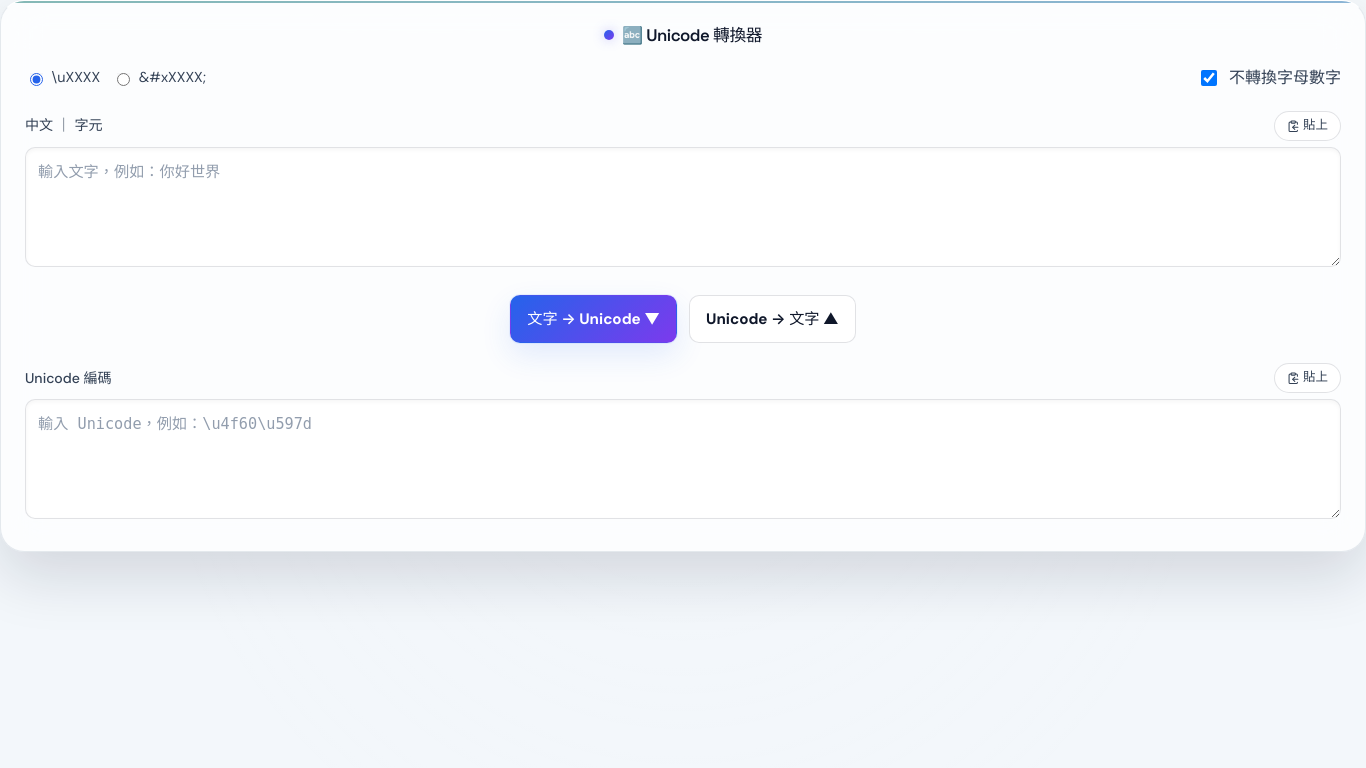
Test: UnicodeConverter.vue › 文字 → Unicode › 應能轉為 HTML Entities
Click the radio button with id "unicode-mode-html". click: (124, 79)
box: [117,73,130,86]
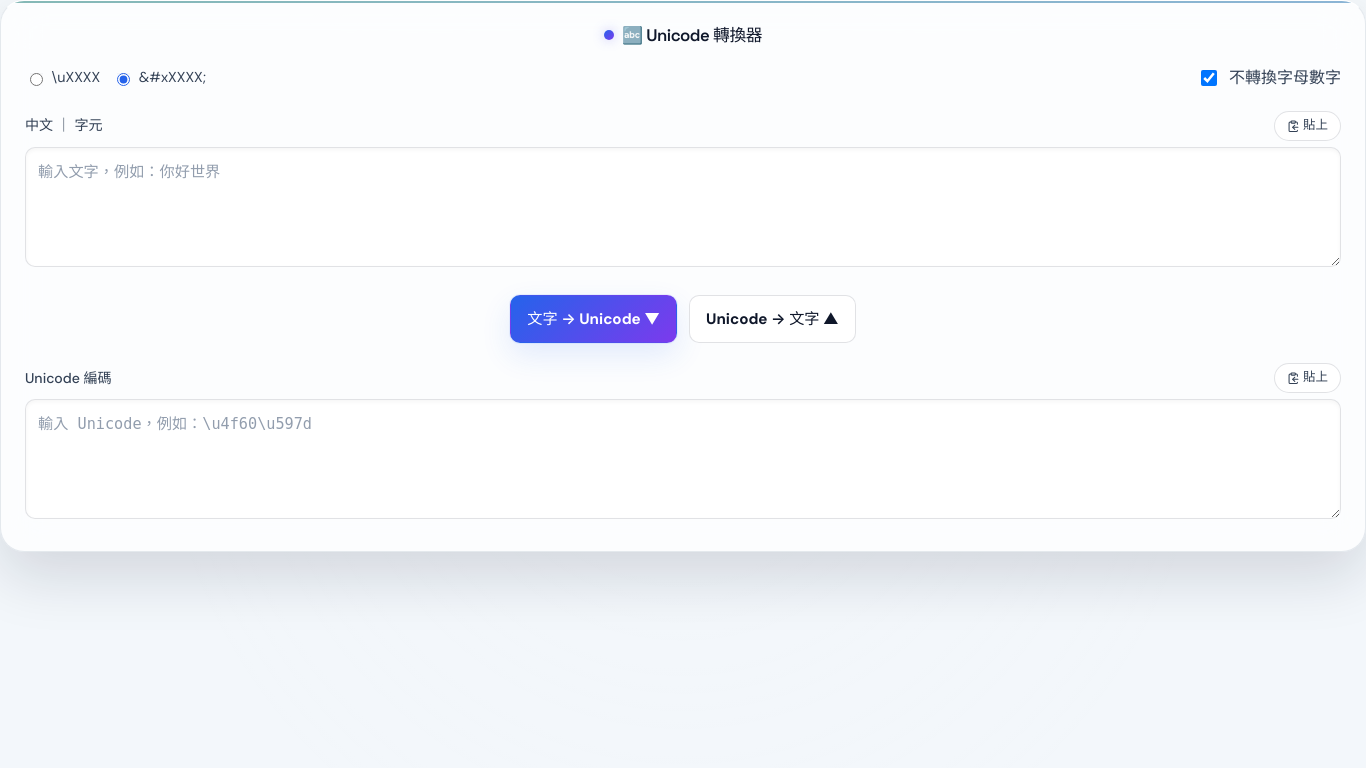
Type "你好" into the text box with id "unicode-text-input". click: (683, 207)
box: [25,147,1341,267]
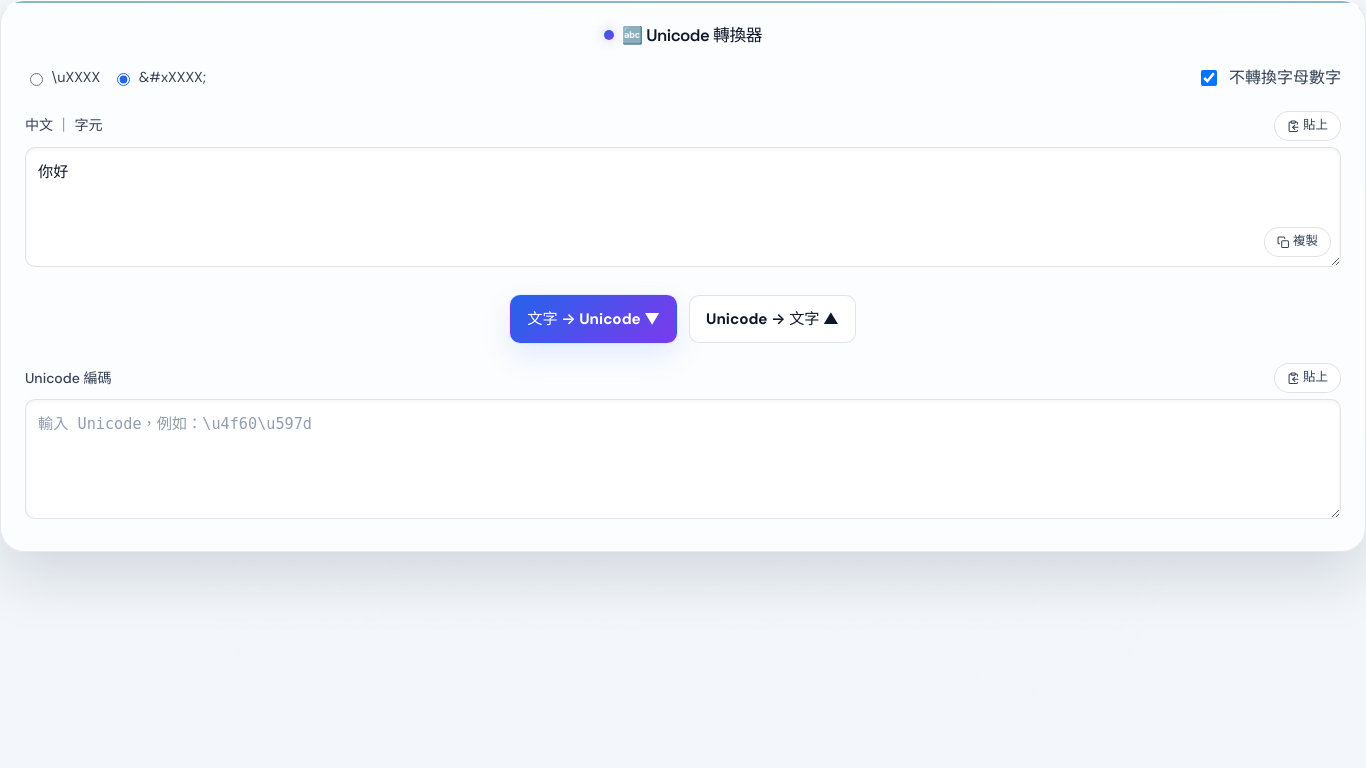
Click the button "文字 → Unicode ▼". click: (594, 319)
box: [510,295,677,343]
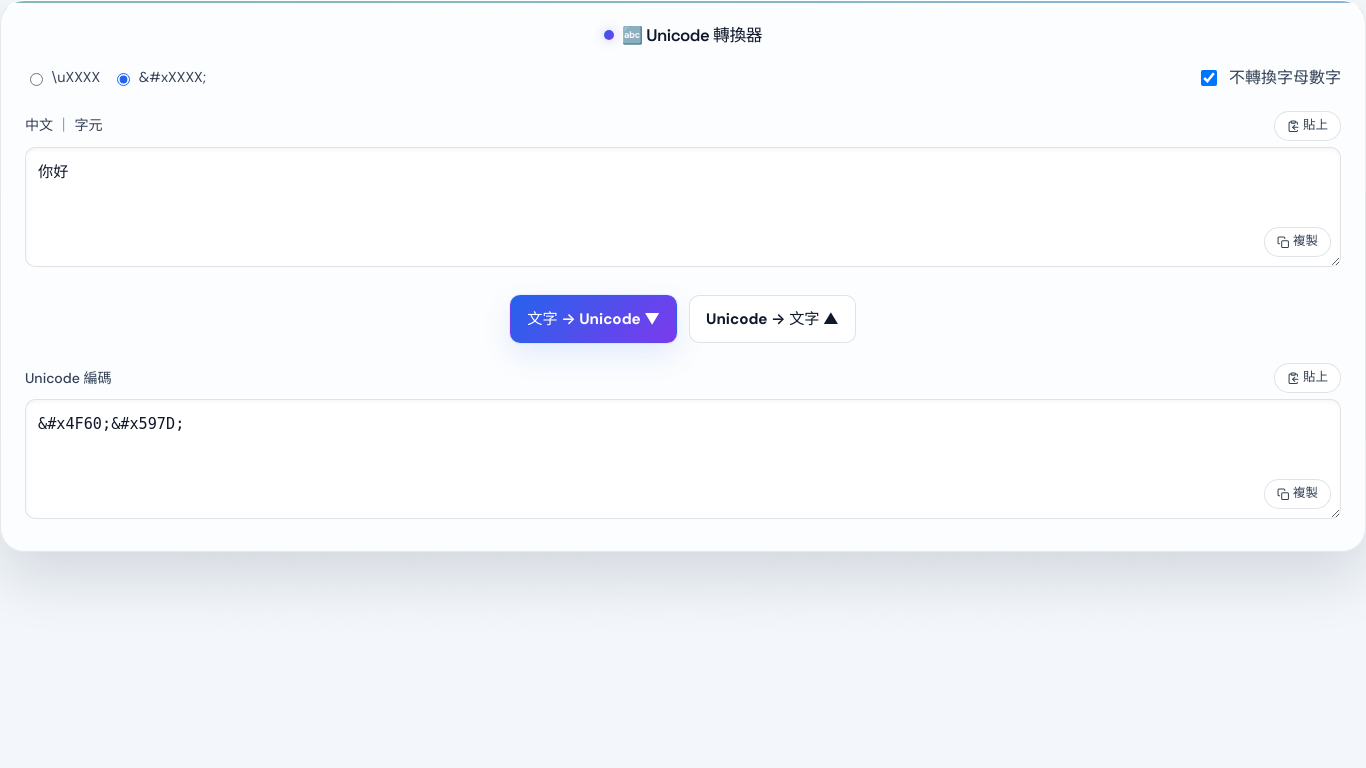
Check: the text box with id "unicode-raw-input" holds "&#x4F60;&#x597D;", box [25,399,1341,519]
